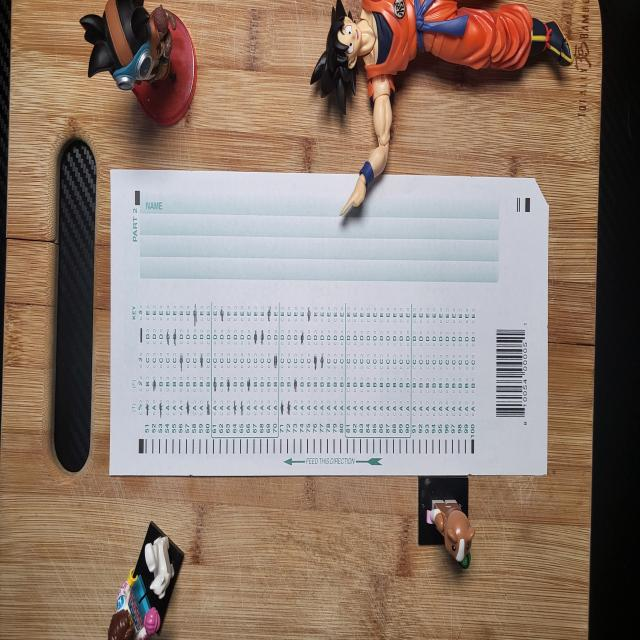scantron_back: (109, 170, 550, 475)
